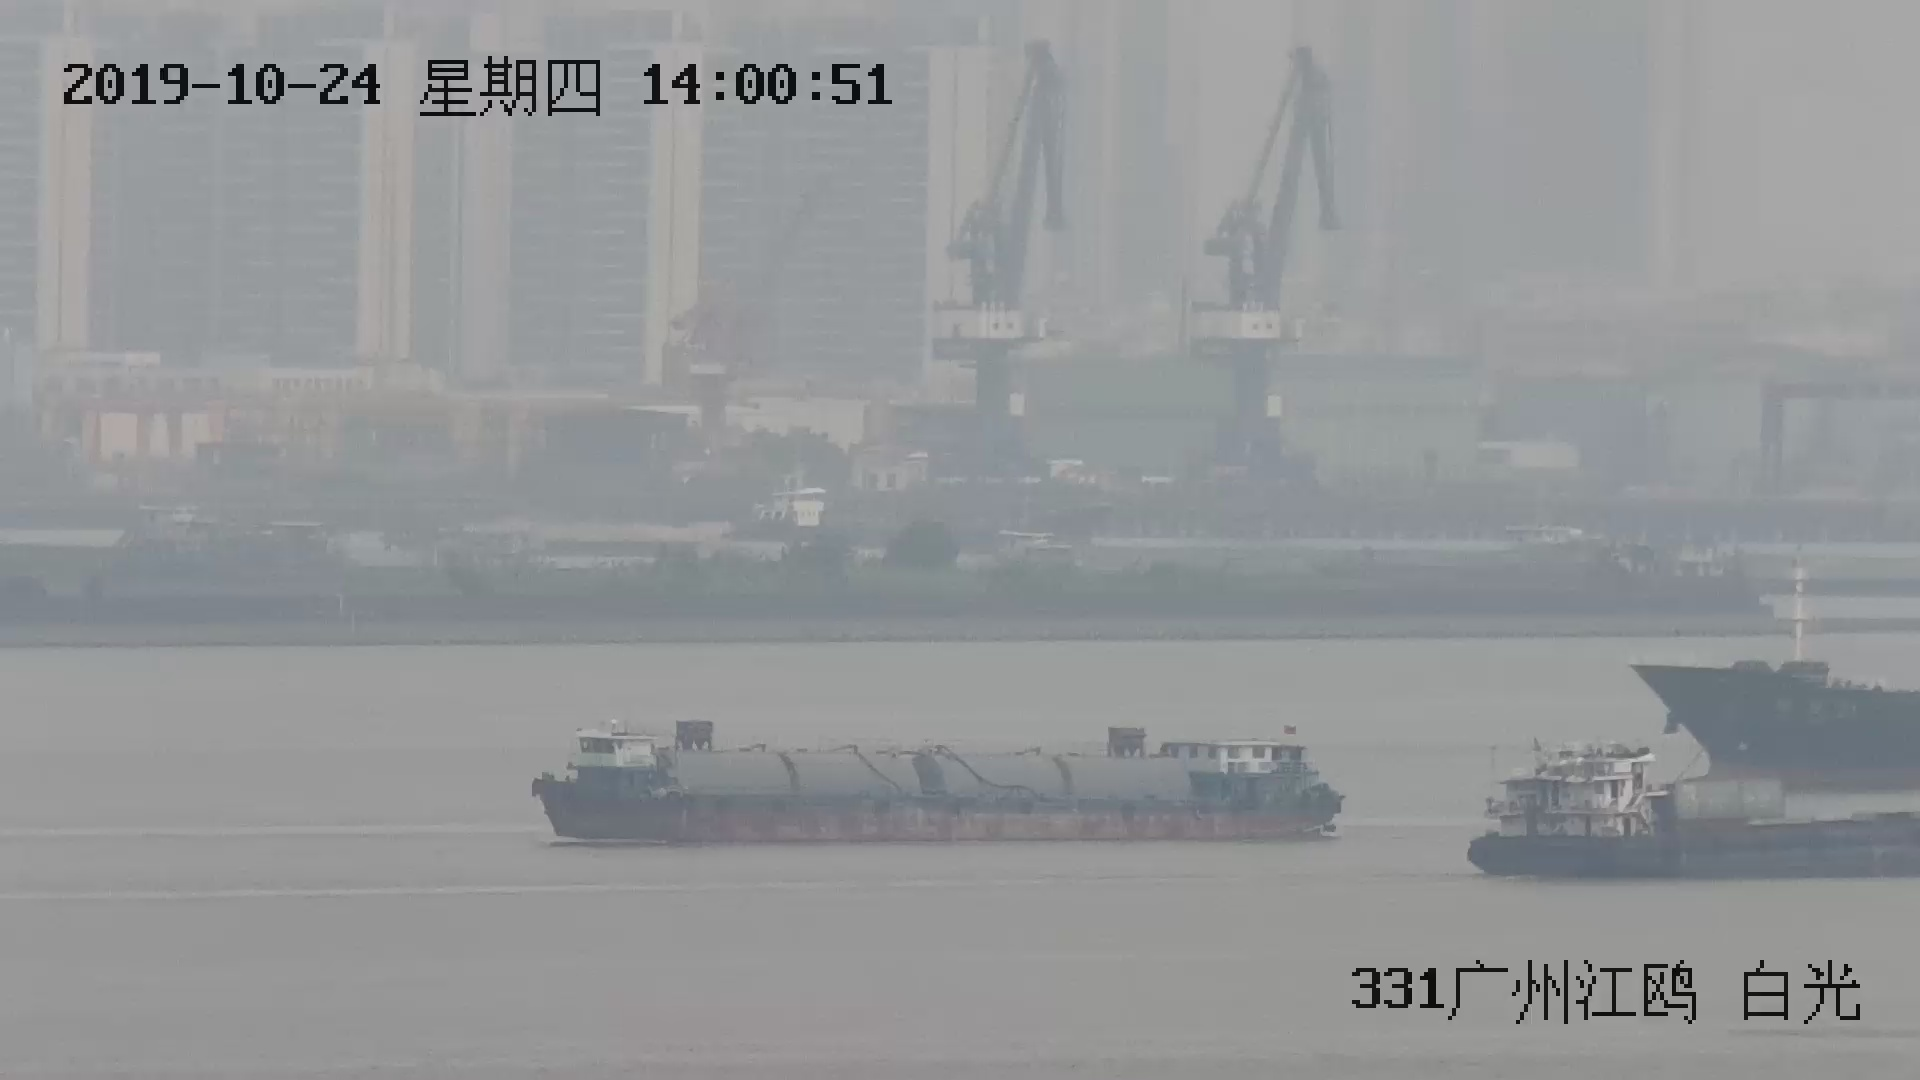ship: (535, 717, 1348, 847), (1468, 725, 1920, 880), (1617, 640, 1920, 774)
